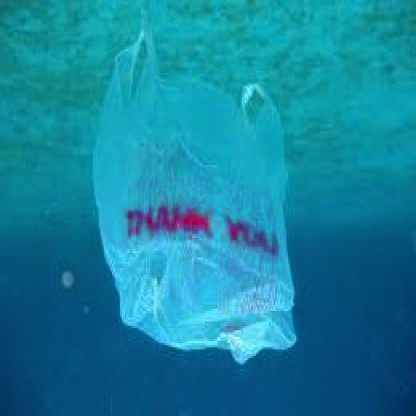pbag: (91, 4, 298, 364)
